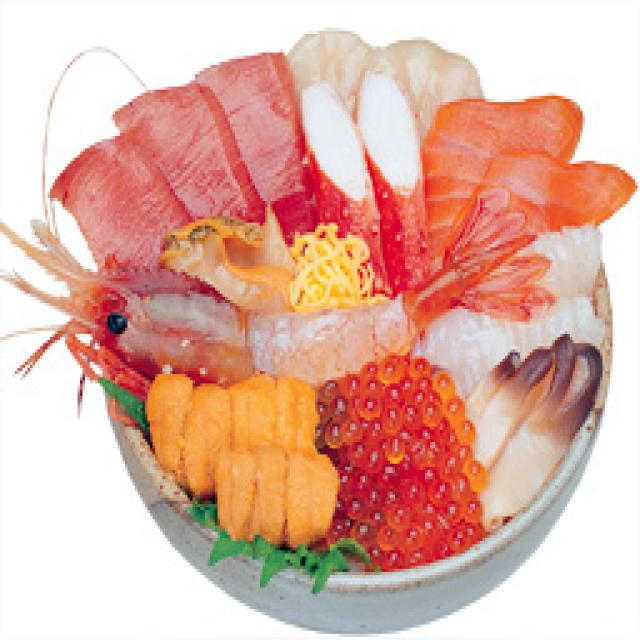刺身生食: (0, 12, 640, 631)
